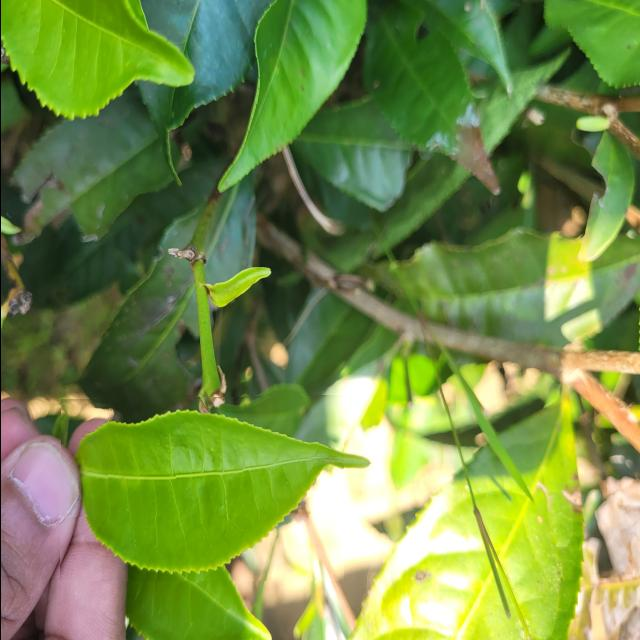Catagory A 1-2 days: (59, 394, 342, 580)
